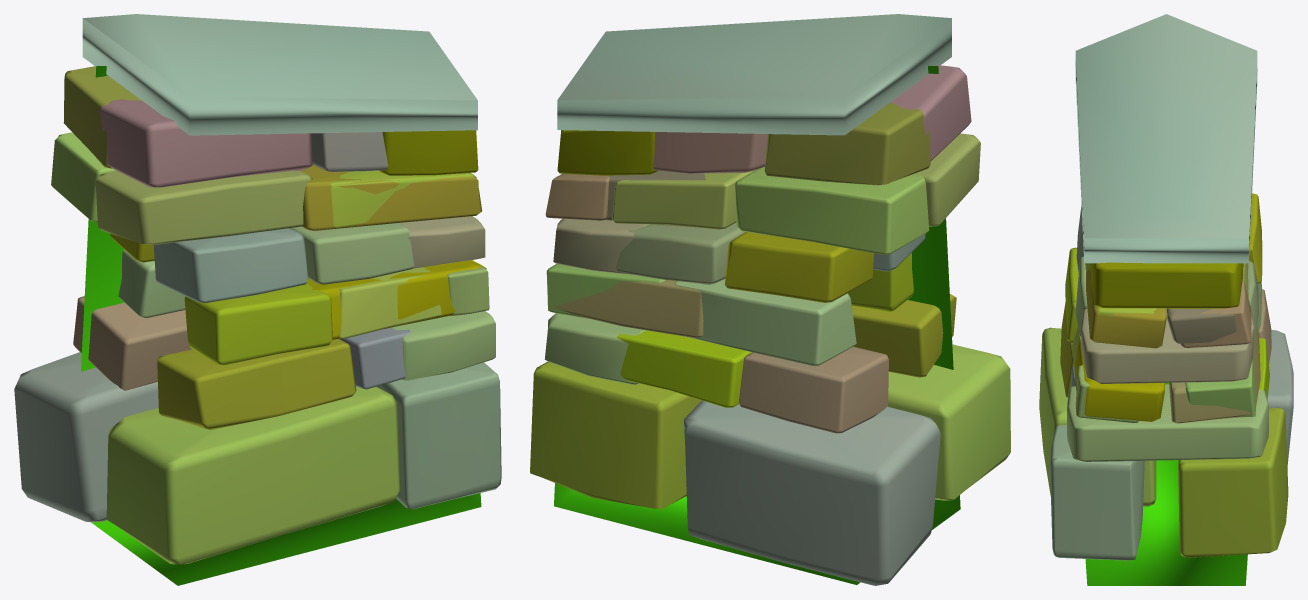
Rendered from SM_Prop_wall_end_22.glb.
3 renders of one model, left to right at view 1: azimuth 30°, elevation 25°; view 2: azimuth 150°, elevation 25°; view 3: azimuth 270°, elevation 25°, orthographic. The views are drawn at different scales.
Parts seen in each view (by area): view 1: SM_Prop_wall_end_22; view 2: SM_Prop_wall_end_22; view 3: SM_Prop_wall_end_22.
Part boxes in pixels (box(x1,y1,x2,y2)): SM_Prop_wall_end_22: box(14, 14, 501, 585); SM_Prop_wall_end_22: box(530, 14, 1010, 585); SM_Prop_wall_end_22: box(1039, 14, 1293, 585).
Size of the model in its own units: 1.14 by 1.58 by 0.812.
